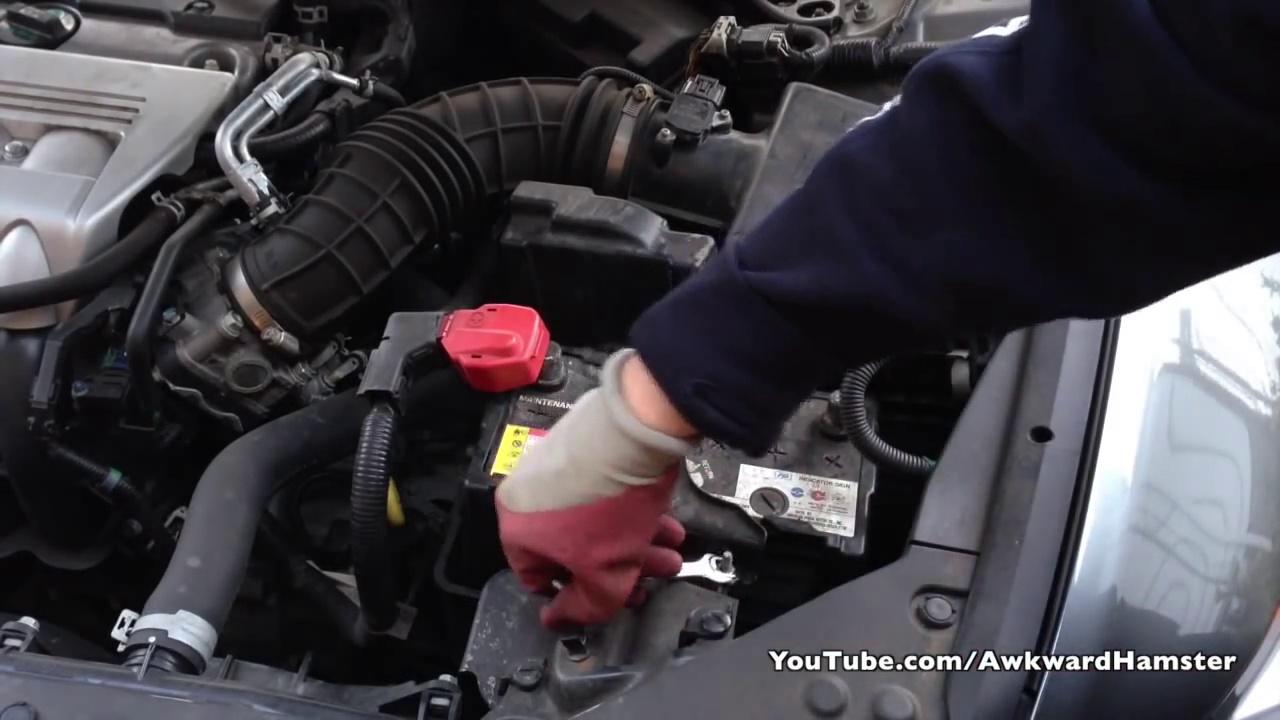battery: (452, 322, 867, 550)
neg_disconnected: (800, 358, 881, 454)
pos_connected: (413, 294, 578, 413)
